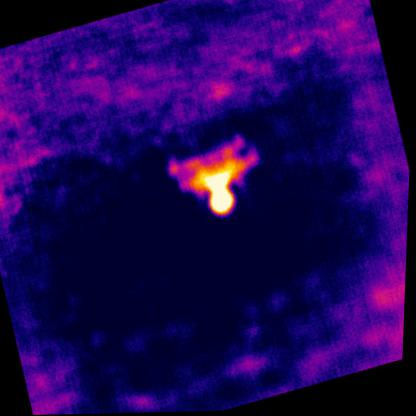drone: (161, 130, 272, 229)
